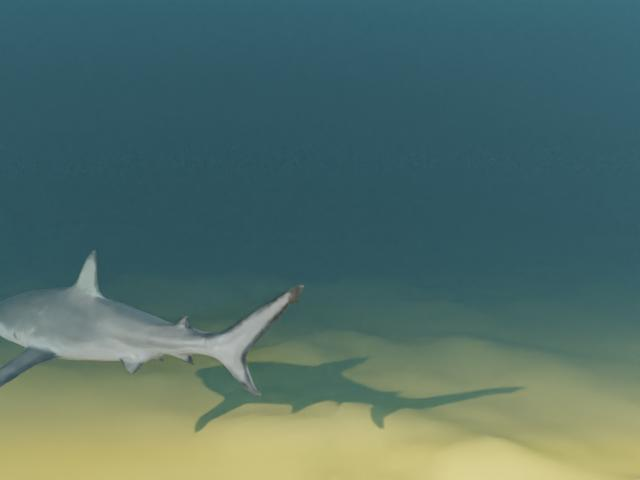Carribean Shark.001: (0, 250, 303, 396)
